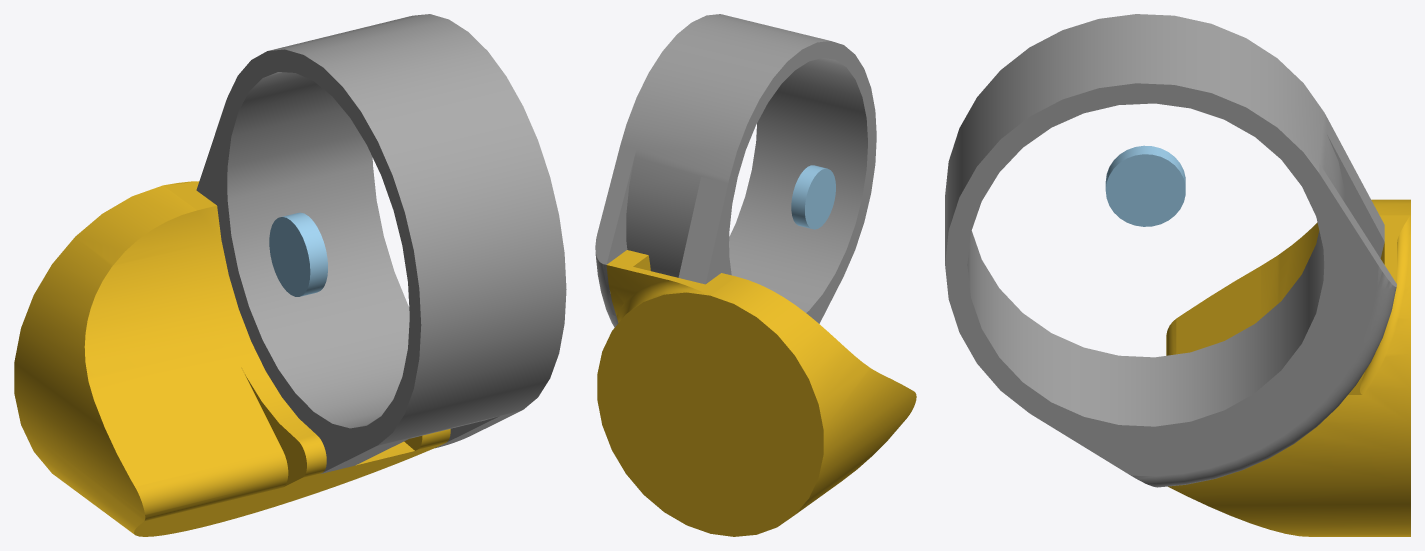
File: R_Shoulder_Roll_Assy.obj
3 views of the same model, side by side, from view 1: azimuth 30°, elevation 25°; view 2: azimuth 150°, elevation 25°; view 3: azimuth 270°, elevation 25° (orthographic). The views are drawn at different scales.
Visible parts, largest first — view 1: mesh25, mesh18, mesh8, mesh1, mesh5, mesh26, mesh6, mesh12, mesh31, mesh32, mesh7, mesh9 (+1 smaller); view 2: mesh0, mesh25, mesh18, mesh1, mesh26, mesh28, mesh21, mesh31, mesh4, mesh13, mesh3, mesh32 (+2 smaller); view 3: mesh19, mesh25, mesh18, mesh1, mesh20, mesh33, mesh5, mesh8, mesh3, mesh27, mesh28, mesh13 (+2 smaller).
Part boxes in pixels (x1,y1,x2,y2): mesh25: (268, 14, 566, 445); mesh18: (227, 72, 409, 428); mesh8: (84, 205, 316, 439); mesh1: (14, 181, 197, 534); mesh5: (94, 364, 282, 486); mesh26: (196, 49, 421, 472); mesh6: (135, 451, 288, 521); mesh12: (134, 443, 444, 536); mesh31: (269, 217, 310, 296); mesh32: (282, 212, 327, 296); mesh7: (245, 374, 306, 486); mesh9: (297, 435, 326, 477); mesh0: (597, 292, 823, 536); mesh25: (620, 14, 829, 277); mesh18: (729, 58, 867, 312); mesh1: (627, 276, 916, 514); mesh26: (705, 41, 876, 323); mesh28: (678, 176, 727, 284); mesh21: (595, 145, 636, 264); mesh31: (805, 168, 835, 229); mesh4: (606, 265, 668, 315); mesh13: (607, 250, 735, 295); mesh3: (616, 280, 709, 322); mesh32: (791, 165, 826, 228); mesh19: (945, 83, 1378, 475); mesh25: (945, 14, 1345, 263); mesh18: (967, 231, 1324, 426); mesh1: (1168, 199, 1410, 536); mesh20: (1131, 266, 1396, 487); mesh33: (1105, 154, 1185, 226); mesh5: (1176, 266, 1260, 354); mesh8: (1261, 222, 1319, 318); mesh3: (1360, 215, 1410, 394); mesh27: (1327, 135, 1384, 258); mesh28: (1326, 117, 1384, 241); mesh13: (1379, 215, 1409, 283).
Bounding box in the file's own units: 0.0884 × 0.1419 × 0.116.
